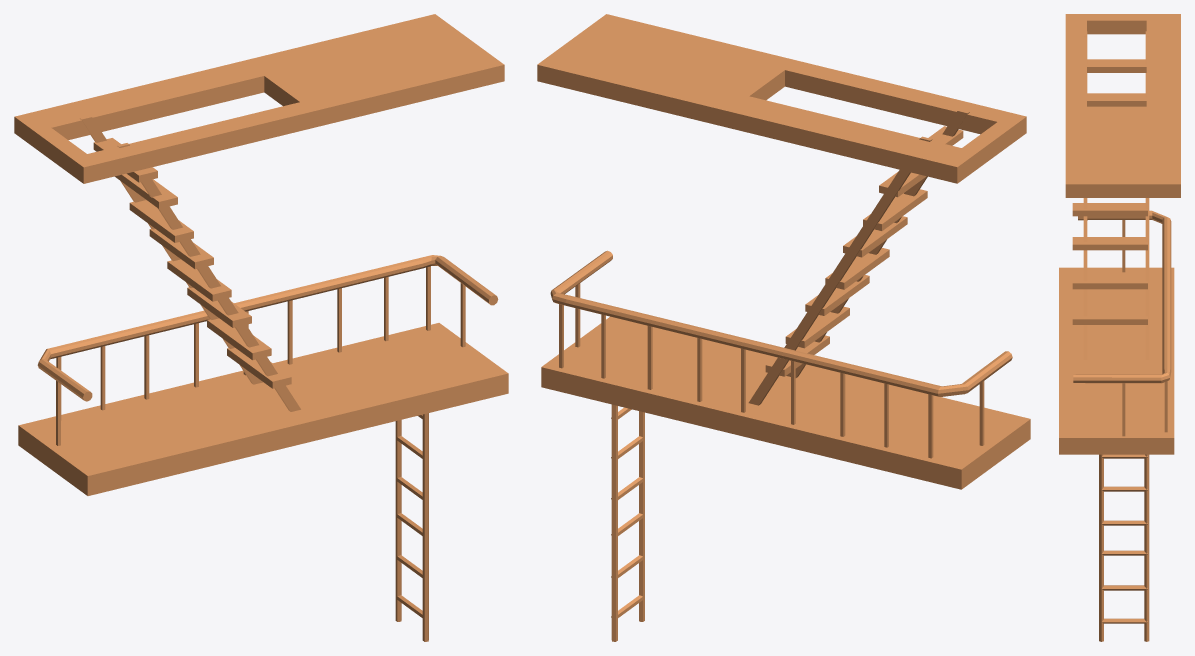
The model's file is scaffolding1.fbx.
3 views of the same model, side by side, from view 1: azimuth 30°, elevation 25°; view 2: azimuth 150°, elevation 25°; view 3: azimuth 270°, elevation 25° (orthographic). The views are drawn at different scales.
Parts seen in each view (by area): view 1: Cube.021; view 2: Cube.021; view 3: Cube.021.
Boxes of the visible parts, x1=… form: Cube.021: x1=14, y1=14, x2=508, y2=641; Cube.021: x1=537, y1=14, x2=1030, y2=641; Cube.021: x1=1059, y1=14, x2=1180, y2=641.
Size of the model in its own units: 1069 by 1406 by 323.
